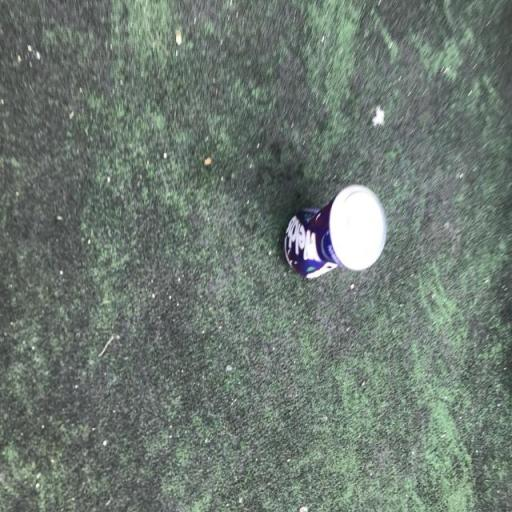metal: (270, 159, 395, 302)
